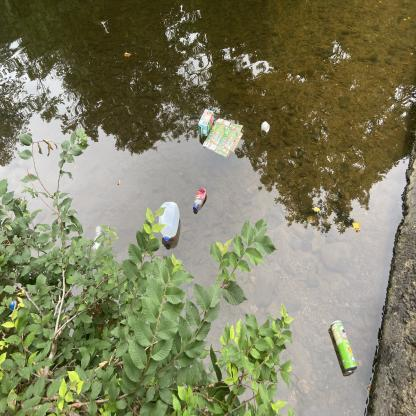trash: (200, 116, 247, 160), (326, 316, 359, 378), (154, 198, 182, 245), (196, 107, 216, 139), (190, 184, 210, 212), (260, 120, 272, 134)
